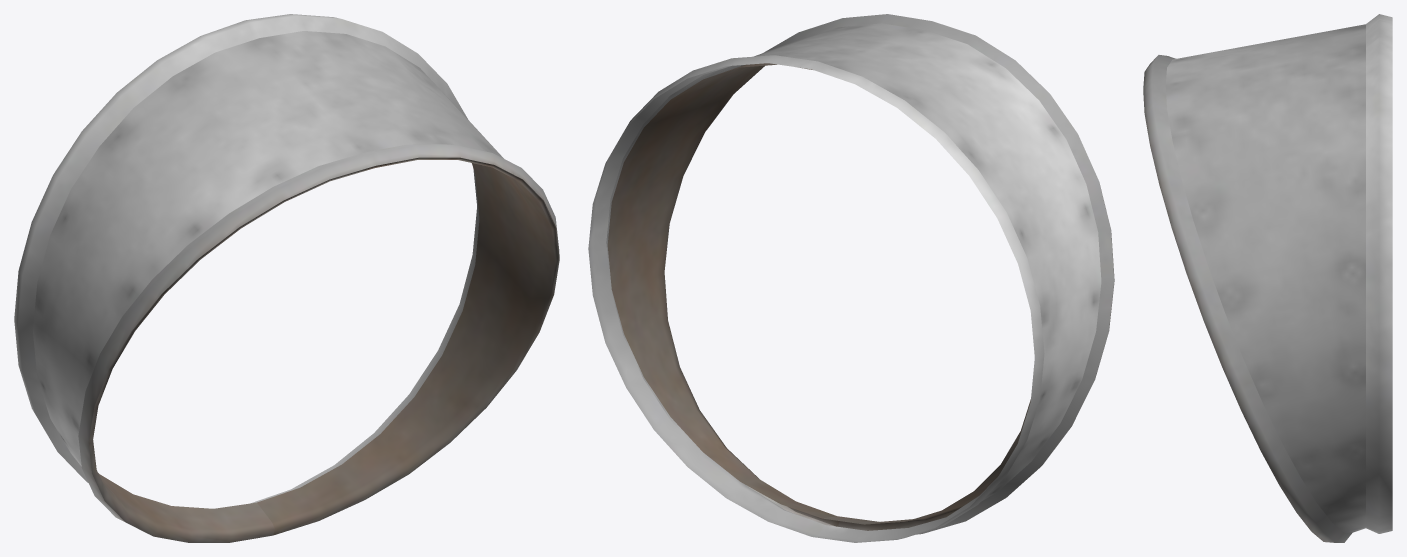
File: duct_bend.glb
3 views of the same model, side by side, from view 1: azimuth 30°, elevation 25°; view 2: azimuth 150°, elevation 25°; view 3: azimuth 270°, elevation 25° (orthographic). The views are drawn at different scales.
Visible parts, largest first — view 1: modular_airduct_circular_smooth_bend_quater; view 2: modular_airduct_circular_smooth_bend_quater; view 3: modular_airduct_circular_smooth_bend_quater.
Boxes of the visible parts, bbox=[...] form: modular_airduct_circular_smooth_bend_quater: bbox=[14, 14, 559, 542]; modular_airduct_circular_smooth_bend_quater: bbox=[588, 14, 1114, 542]; modular_airduct_circular_smooth_bend_quater: bbox=[1143, 14, 1392, 542].
Bounding box in the file's own units: 0.62 × 0.6296 × 0.2972.
1 material, 1 textured.
